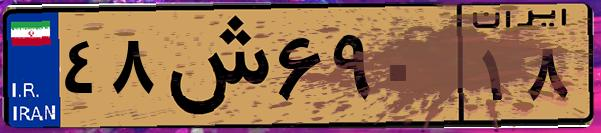0: (385, 28, 445, 110)
1: (475, 38, 525, 113)
4: (57, 26, 110, 100)
6: (270, 28, 330, 110)
8: (525, 38, 570, 115), (110, 28, 158, 98)
9: (330, 28, 385, 110)
ش: (158, 12, 270, 120)
